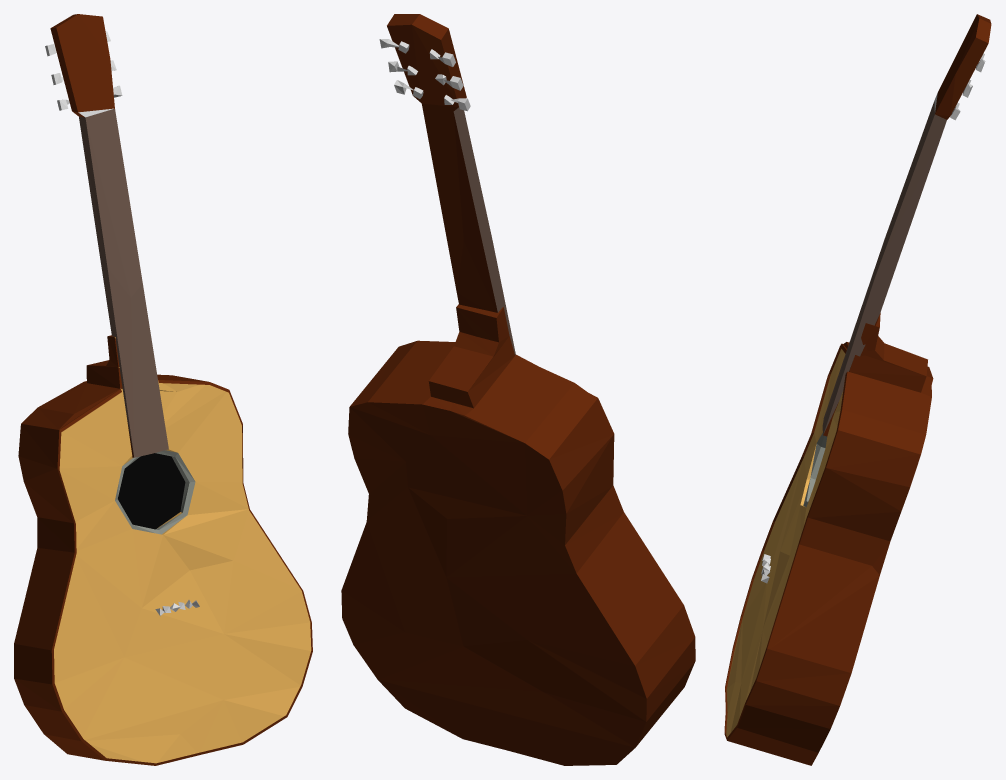
File: Guitarra.fbx
The picture shows the model from 3 angles, left to right: view 1: azimuth 30°, elevation 25°; view 2: azimuth 150°, elevation 25°; view 3: azimuth 270°, elevation 25°; orthographic projection. The views are drawn at different scales.
Visible parts, largest first — view 1: Cube.030, Cube.031, Cylinder.050; view 2: Cube.030, Cube.031, Cylinder.050; view 3: Cube.030, Cube.031, Cylinder.050.
Boxes of the visible parts, x1=… form: Cube.030: x1=14, y1=335, x2=312, y2=765; Cube.031: x1=50, y1=14, x2=168, y2=457; Cylinder.050: x1=45, y1=31, x2=199, y2=615; Cube.030: x1=341, y1=304, x2=695, y2=765; Cube.031: x1=387, y1=14, x2=515, y2=355; Cylinder.050: x1=379, y1=39, x2=470, y2=111; Cube.030: x1=724, y1=313, x2=933, y2=765; Cube.031: x1=822, y1=14, x2=991, y2=436; Cylinder.050: x1=761, y1=53, x2=985, y2=583.
Size of the model in its own units: 402 by 1005 by 339.
